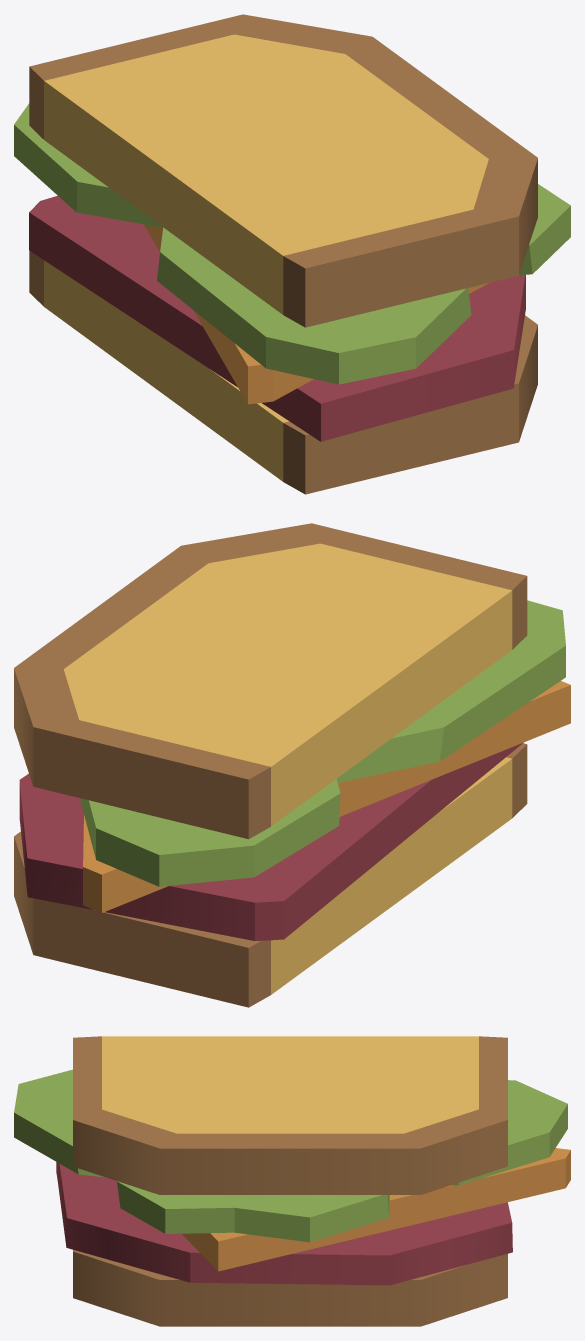
File: Sandwich_01.FBX
The picture shows the model from 3 angles, top to bottom: view 1: azimuth 30°, elevation 25°; view 2: azimuth 150°, elevation 25°; view 3: azimuth 270°, elevation 25°; orthographic projection. The views are drawn at different scales.
Parts seen in each view (by area): view 1: Sandwich_01; view 2: Sandwich_01; view 3: Sandwich_01.
Boxes of the visible parts, bbox=[...] form: Sandwich_01: bbox=[14, 14, 570, 494]; Sandwich_01: bbox=[14, 523, 570, 1007]; Sandwich_01: bbox=[14, 1036, 570, 1326].
Bounding box in the file's own units: 17.68 × 9.63 × 27.28.
